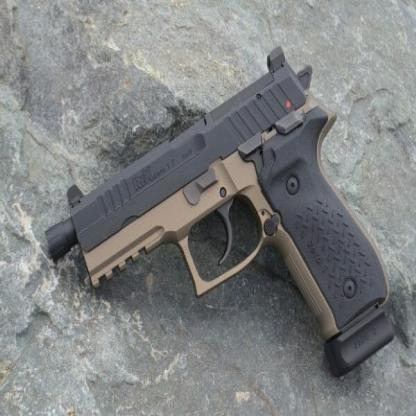Pistol: (43, 45, 395, 378)
